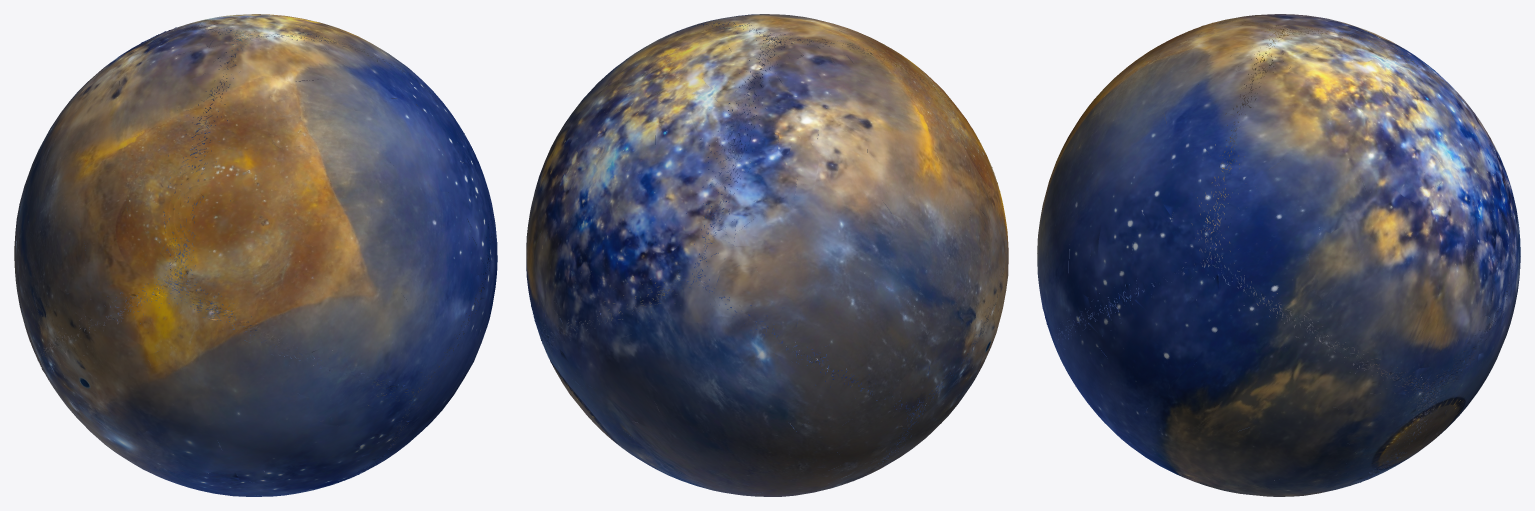
Rendered from mercry-draco.glb.
3 views of the same model, side by side, from view 1: azimuth 30°, elevation 25°; view 2: azimuth 150°, elevation 25°; view 3: azimuth 270°, elevation 25° (orthographic).
Parts seen in each view (by area): view 1: Mesh_0; view 2: Mesh_0; view 3: Mesh_0.
Boxes of the visible parts, <box> form: Mesh_0: <box>14,14,497,496</box>; Mesh_0: <box>526,14,1008,496</box>; Mesh_0: <box>1037,14,1520,496</box>.
Bounding box in the file's own units: 2.01 × 2.01 × 2.
1 material, 1 textured.
